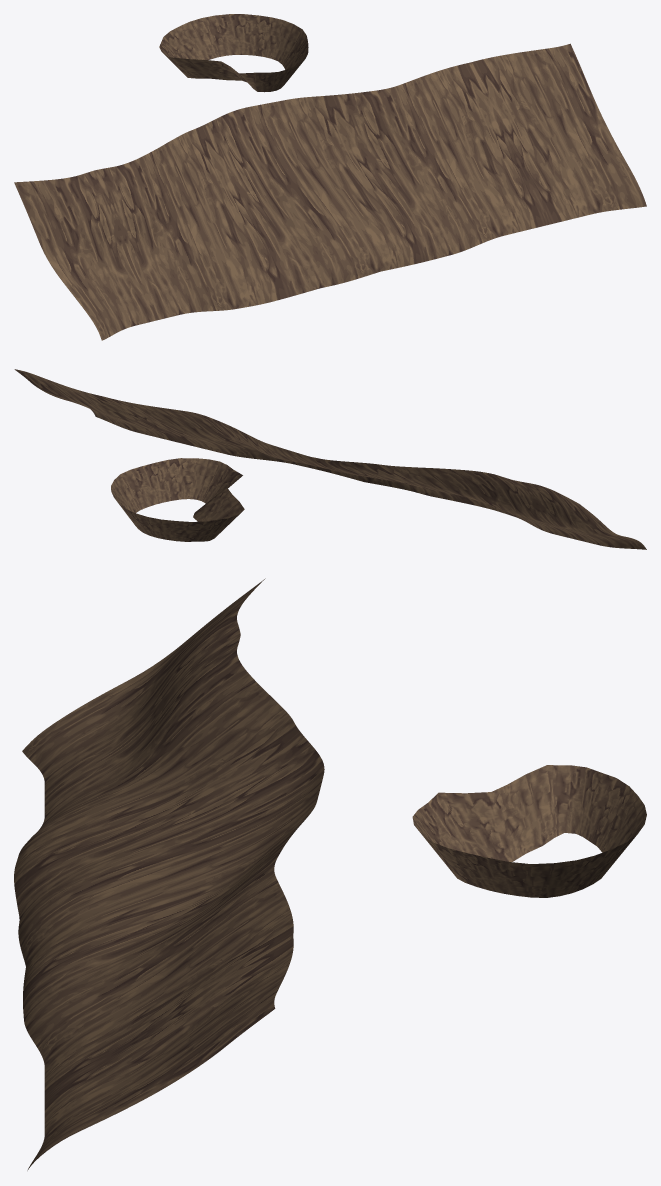
Rendered from gardengame_rockplane.fbx.
The picture shows the model from 3 angles, top to bottom: view 1: azimuth 30°, elevation 25°; view 2: azimuth 150°, elevation 25°; view 3: azimuth 270°, elevation 25°; orthographic projection. The views are drawn at different scales.
Visible parts, largest first — view 1: Plane020; view 2: Plane020; view 3: Plane020.
Part boxes in pixels (left/top/right/bottom): Plane020: left=14, top=14, right=646, bottom=340; Plane020: left=14, top=369, right=646, bottom=549; Plane020: left=14, top=578, right=646, bottom=1170.
Size of the model in its own units: 601 by 108 by 373.
